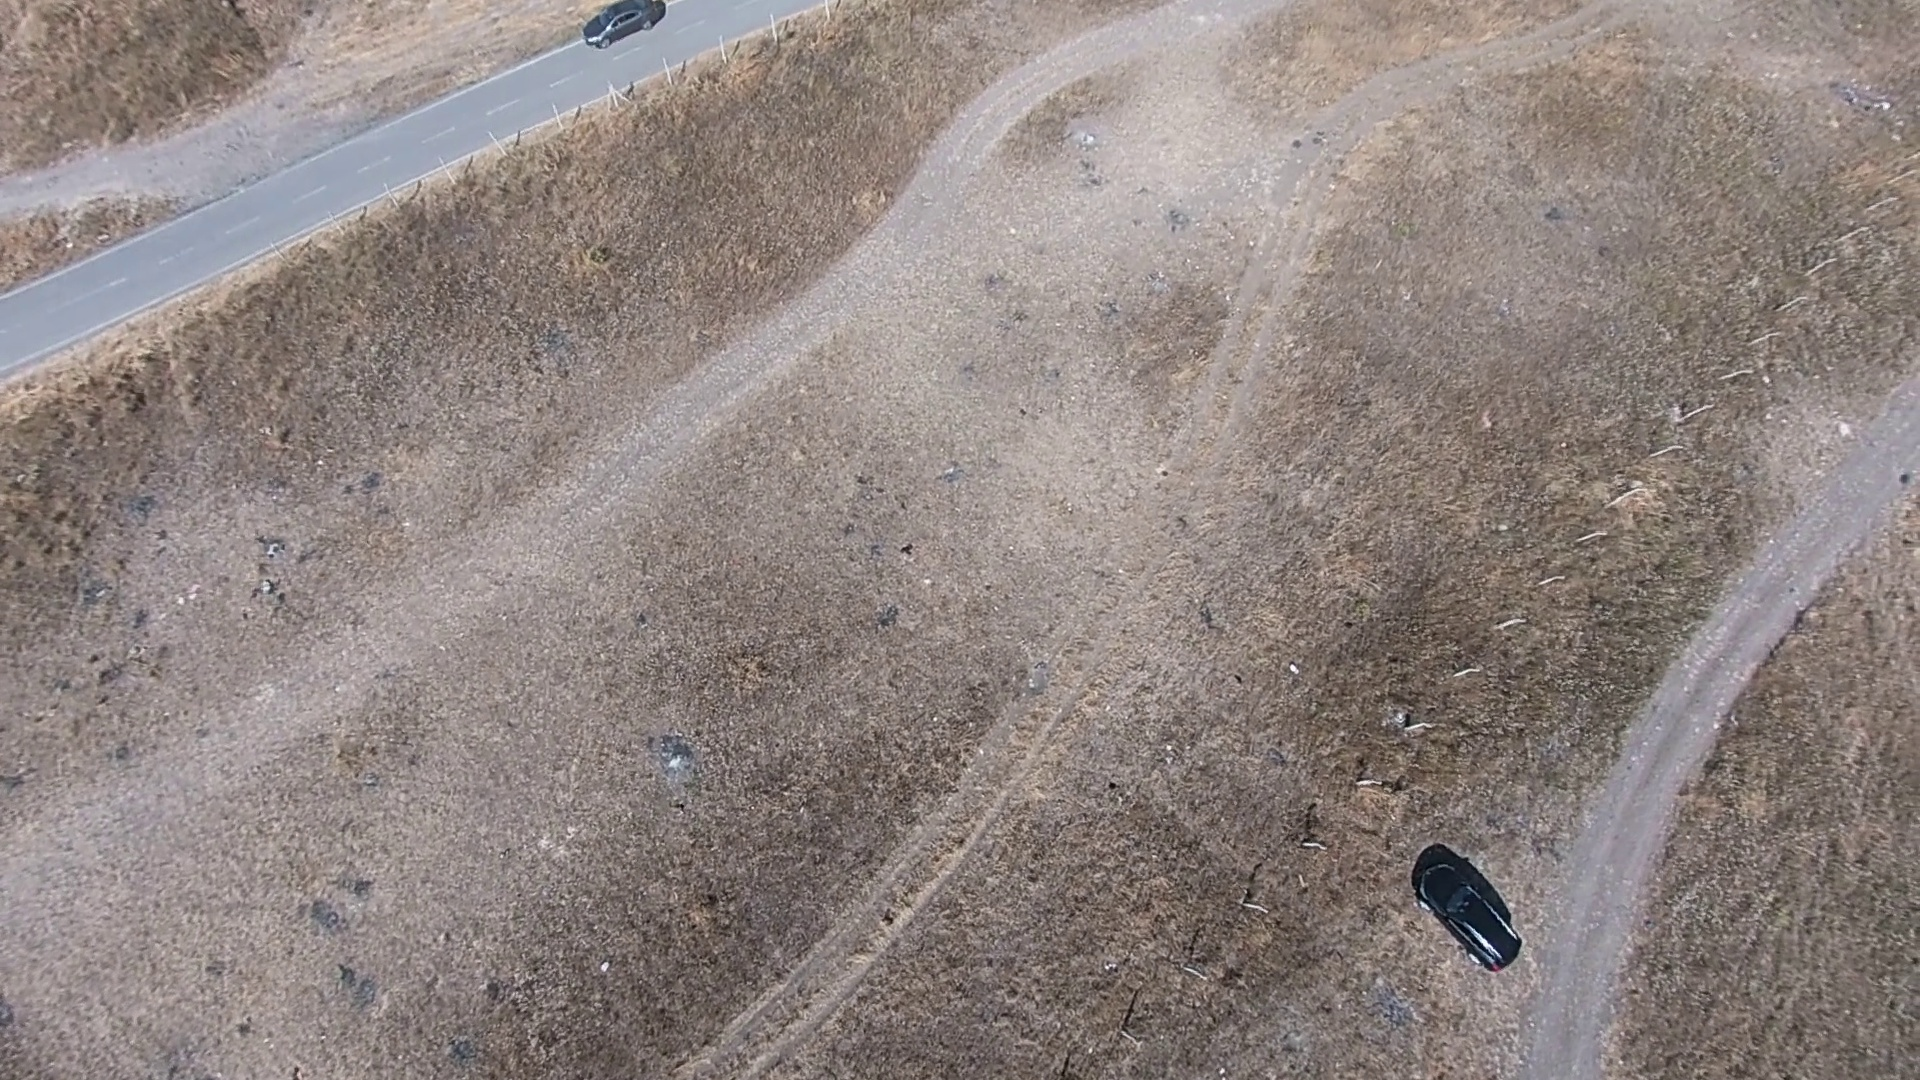araba: (1414, 851, 1520, 975), (574, 1, 670, 47)
